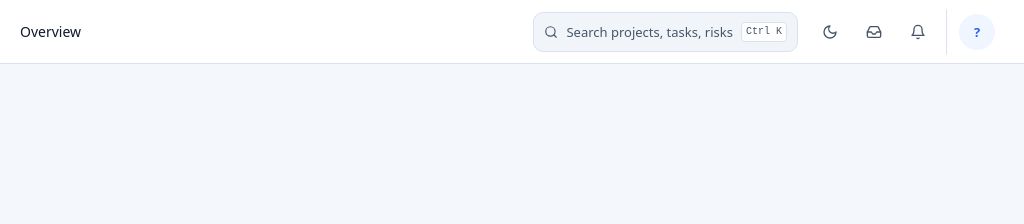
Test: TopBar attention summary › does not turn an unavailable portfolio response into zero alerts
Click the button named "Alerts, summary unavailable". click: (918, 32)
box: [898,12,938,52]
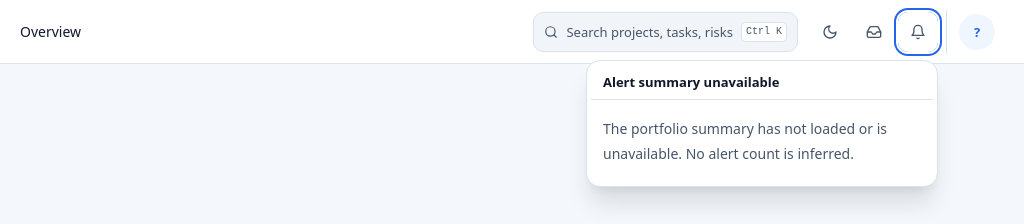
Now the message shows "No alert count is inferred.", box [603,118,887,163]
